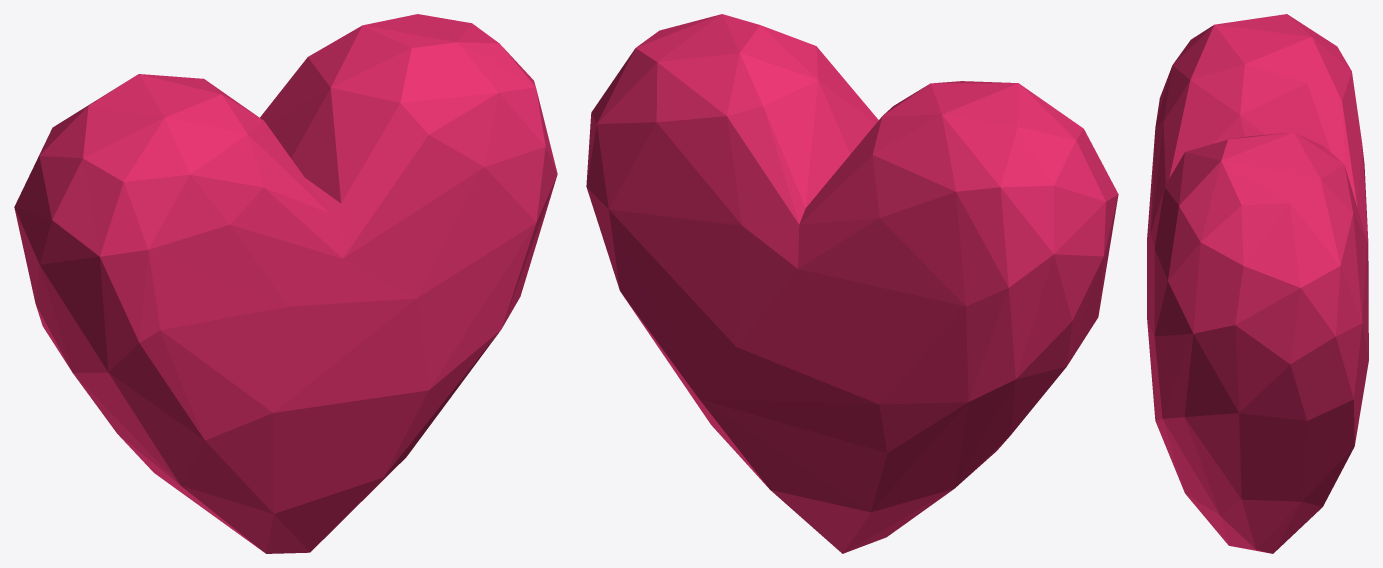
The model's file is yal_model.glb.
3 views of the same model, side by side, from view 1: azimuth 30°, elevation 25°; view 2: azimuth 150°, elevation 25°; view 3: azimuth 270°, elevation 25° (orthographic). The views are drawn at different scales.
Visible parts, largest first — view 1: heart3; view 2: heart3; view 3: heart3.
Part boxes in pixels (<box>): heart3: <box>14,14,557,553</box>; heart3: <box>586,14,1118,553</box>; heart3: <box>1147,14,1368,553</box>.
Bounding box in the file's own units: 2.69 × 2.54 × 1.1.
